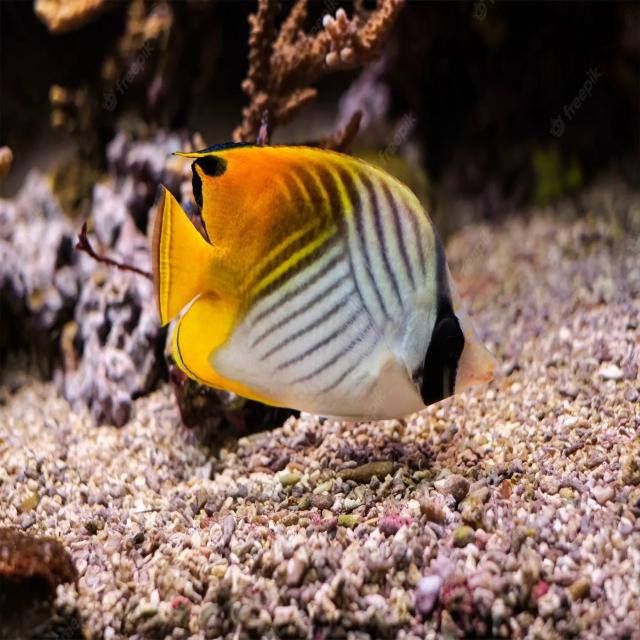ButterflyFish: (161, 145, 498, 423)
